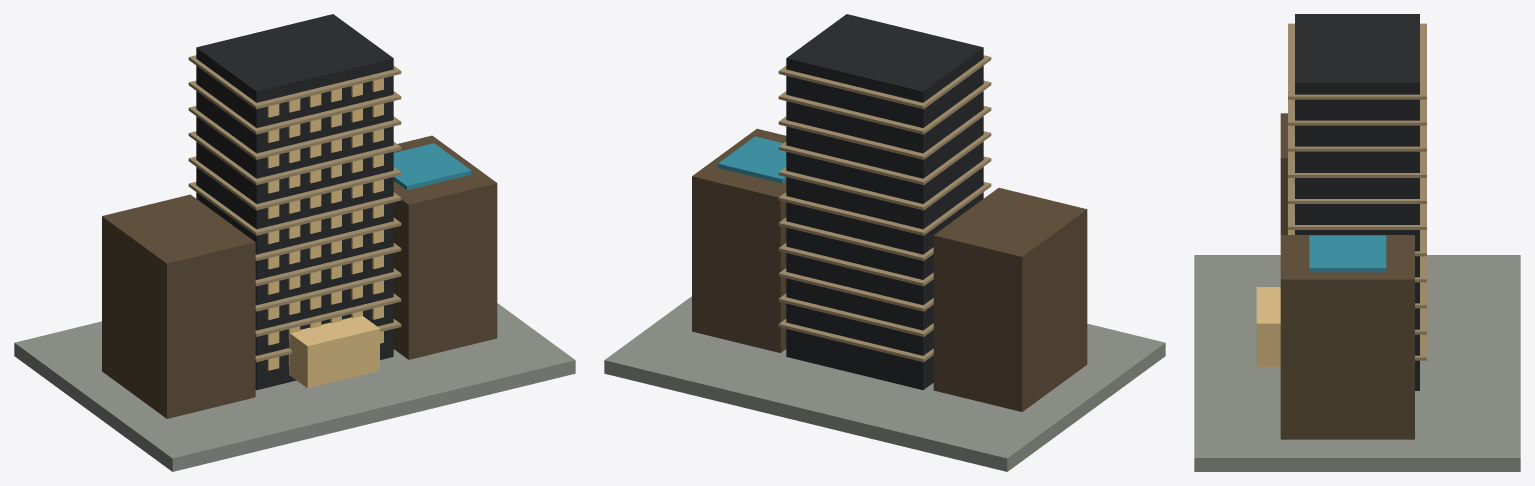
The model's file is property.glb.
3 views of the same model, side by side, from view 1: azimuth 30°, elevation 25°; view 2: azimuth 150°, elevation 25°; view 3: azimuth 270°, elevation 25° (orthographic). The views are drawn at different scales.
Bounding box in the file's own units: 5 × 3.7 × 3.4.
